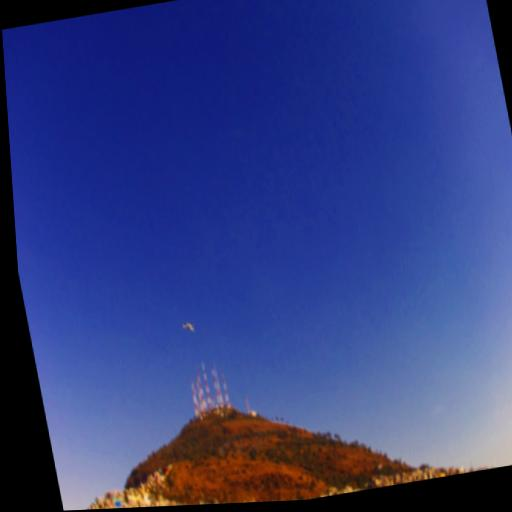drones: (180, 318, 197, 336)
